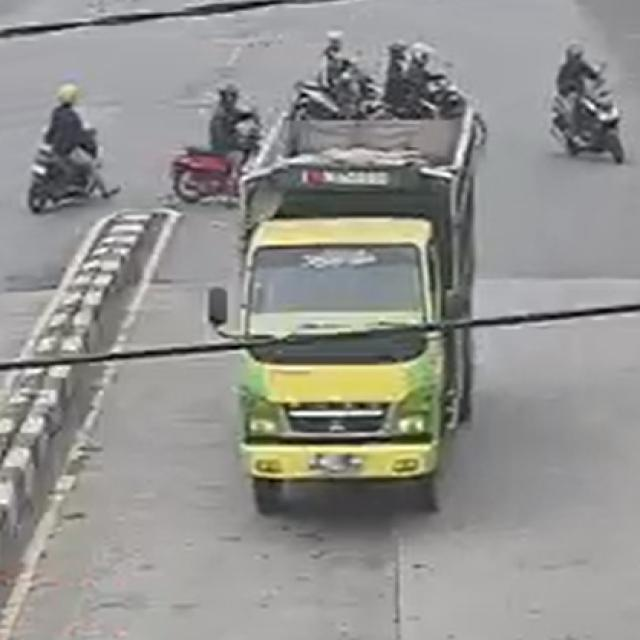motorbike: (14, 77, 120, 220), (538, 38, 625, 167), (172, 89, 256, 220), (384, 34, 468, 116), (301, 30, 368, 109)
truck: (213, 92, 514, 529)
